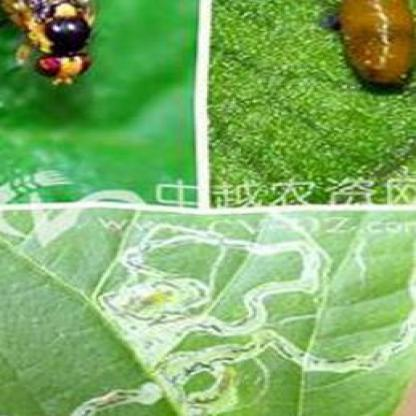whorl-maggot: (322, 2, 416, 96)
